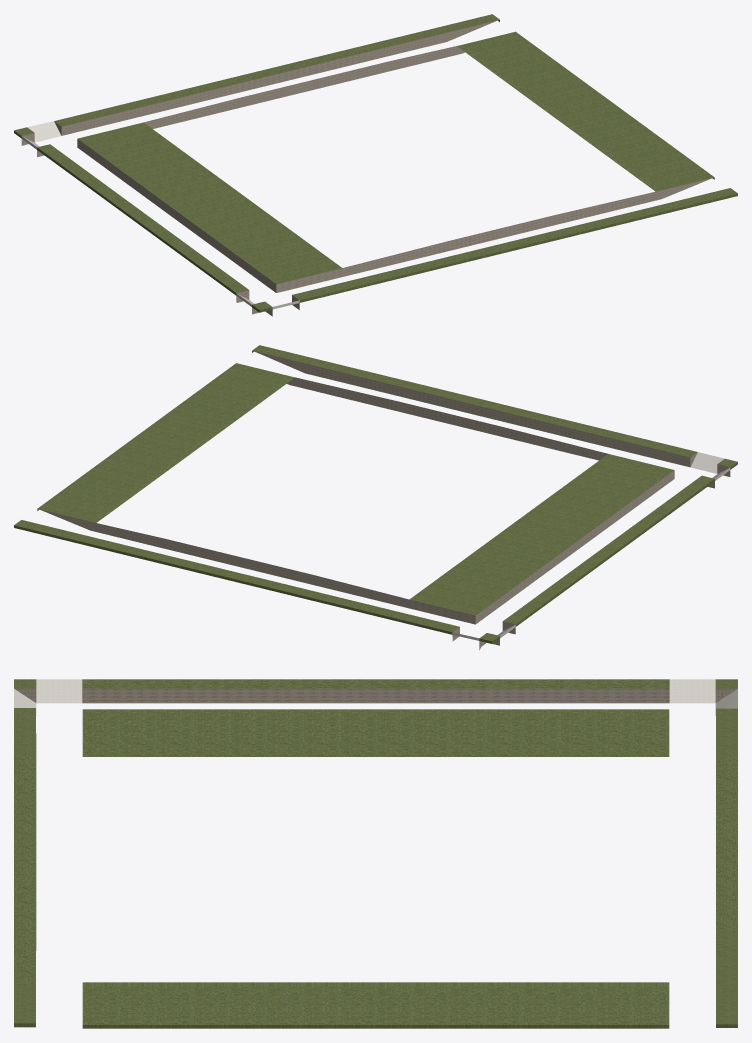
Rendered from lodeland08_lvs.obj.
3 renders of one model, top to bottom at view 1: azimuth 30°, elevation 25°; view 2: azimuth 150°, elevation 25°; view 3: azimuth 270°, elevation 25°, orthographic. The views are drawn at different scales.
Visible parts, largest first — view 1: lodEland08_lvs; view 2: lodEland08_lvs; view 3: lodEland08_lvs.
Boxes of the visible parts, left/top/right/bottom form: lodEland08_lvs: left=14, top=14, right=737, bottom=316; lodEland08_lvs: left=14, top=345, right=737, bottom=650; lodEland08_lvs: left=14, top=679, right=737, bottom=1028.
Bounding box in the file's own units: 180 × 4.6 × 160.
Materials: 3 (3 with a texture image).
